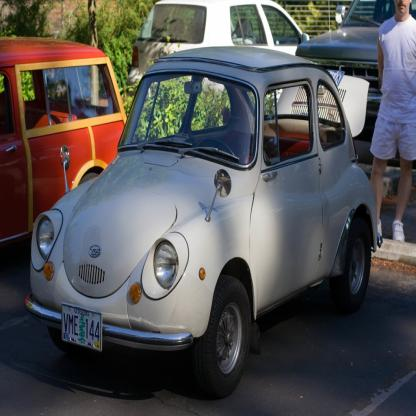Car: (27, 48, 382, 403)
